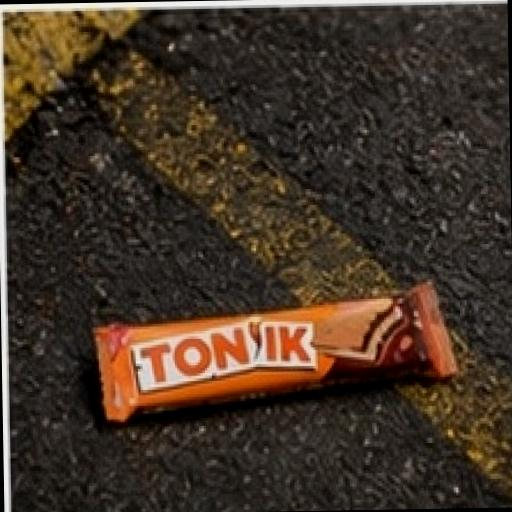tonik: (35, 186, 497, 512)
